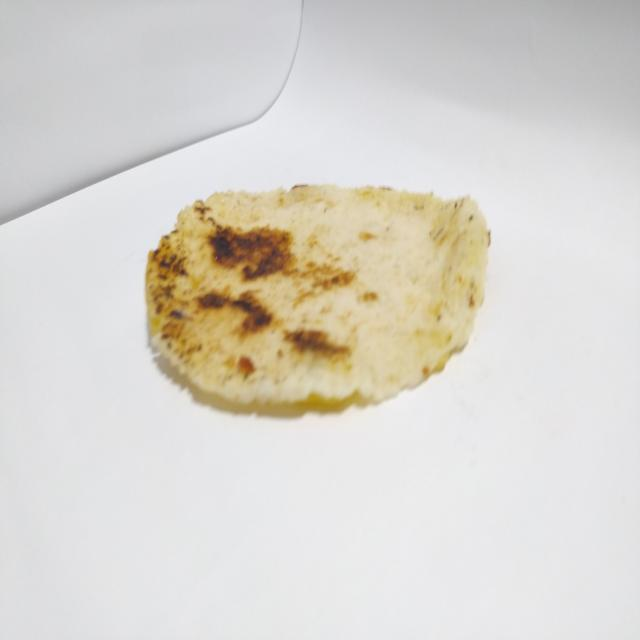Food: (136, 164, 496, 420)
